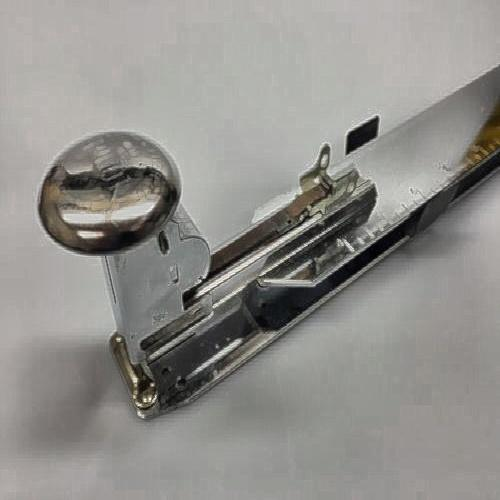stapler: (57, 121, 476, 398)
